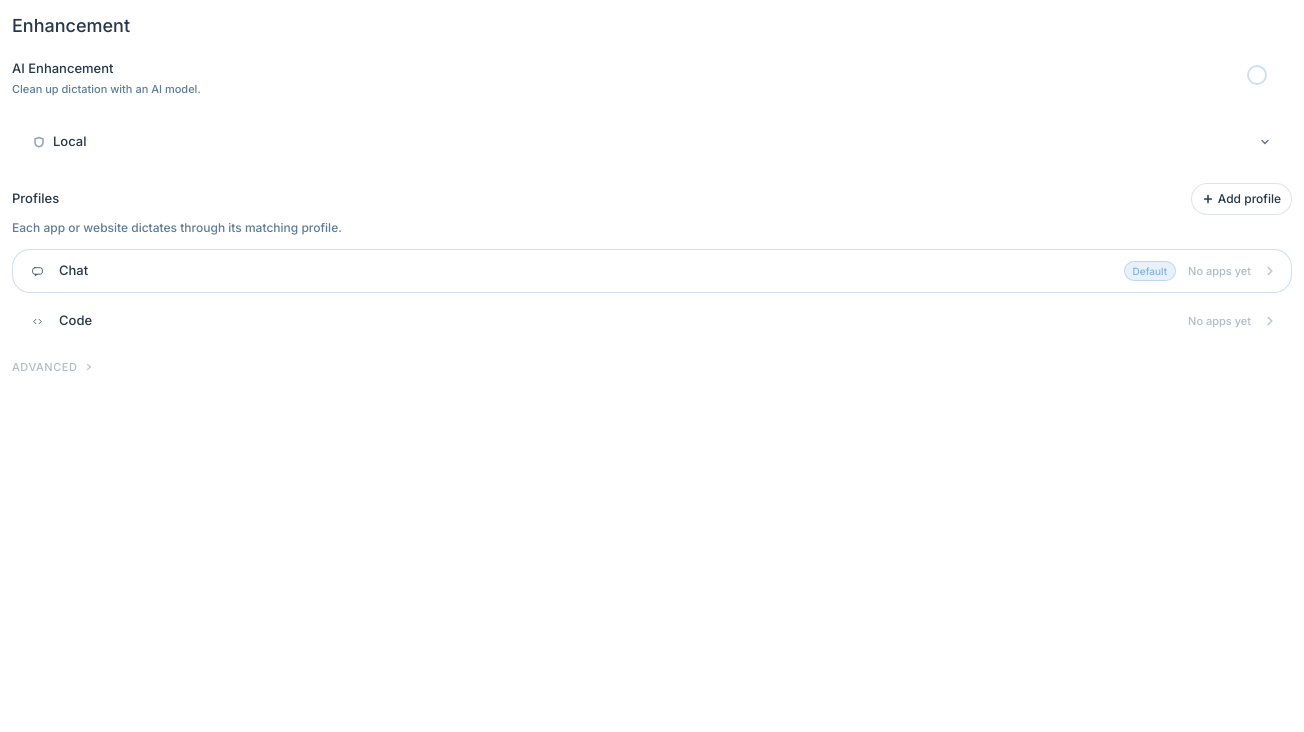
Test case: Enhancement — default provider is local › keeps a multi-choice selector and places its helper line beneath it
Click the button "Local" at (70, 141), box [13,118,1291,166]
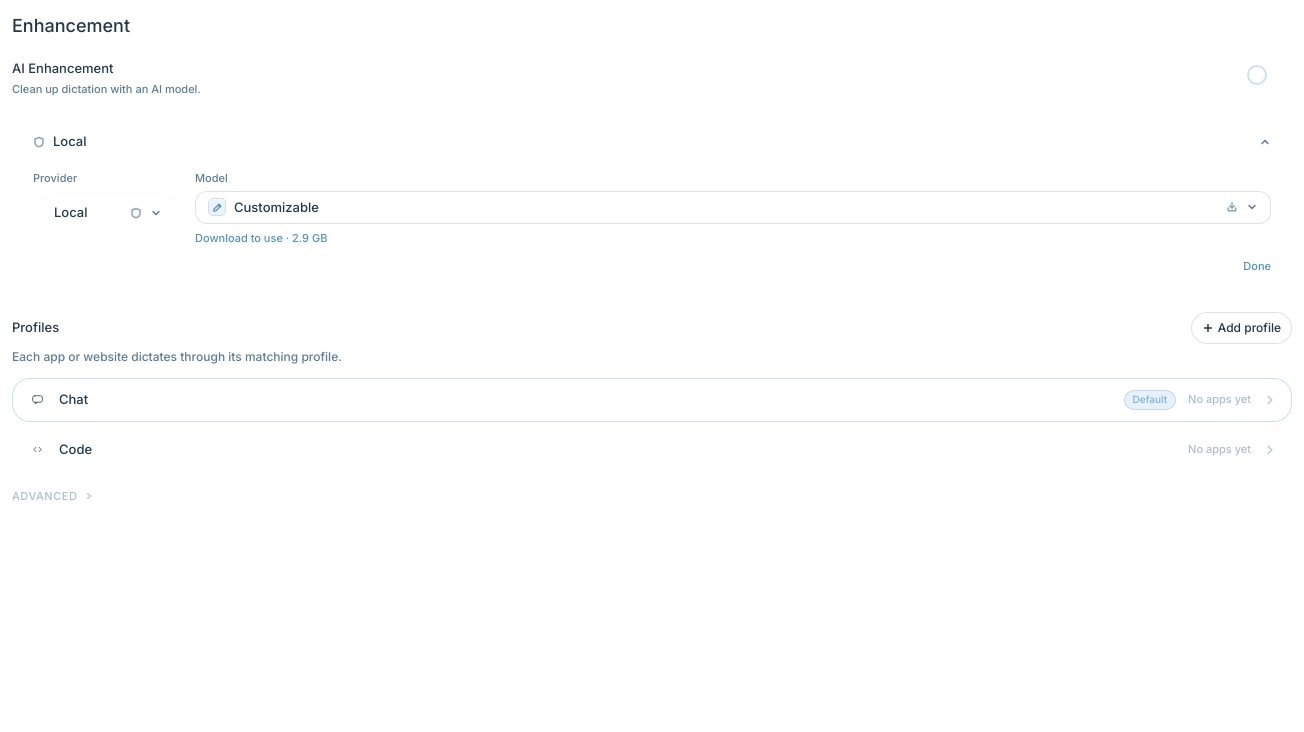
Expected: the button "Download to use · 2.9 GB" is shown, [195,230,327,246]
